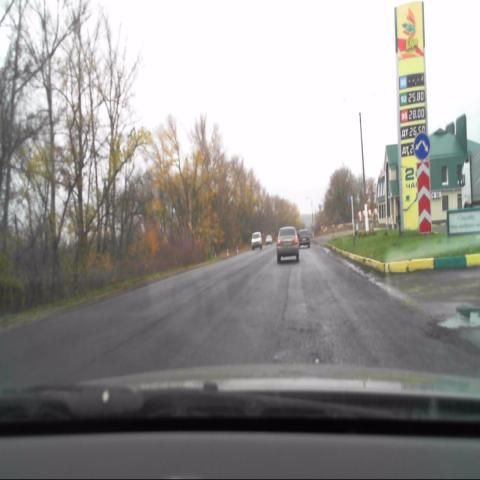4_2_3: (414, 132, 431, 161)
